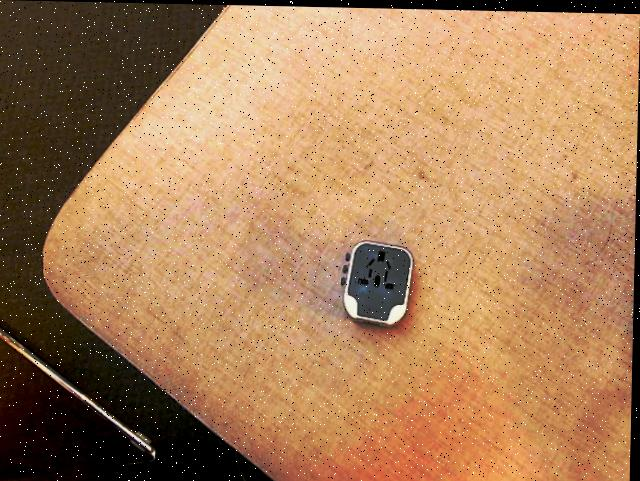adapter: (339, 238, 415, 325)
